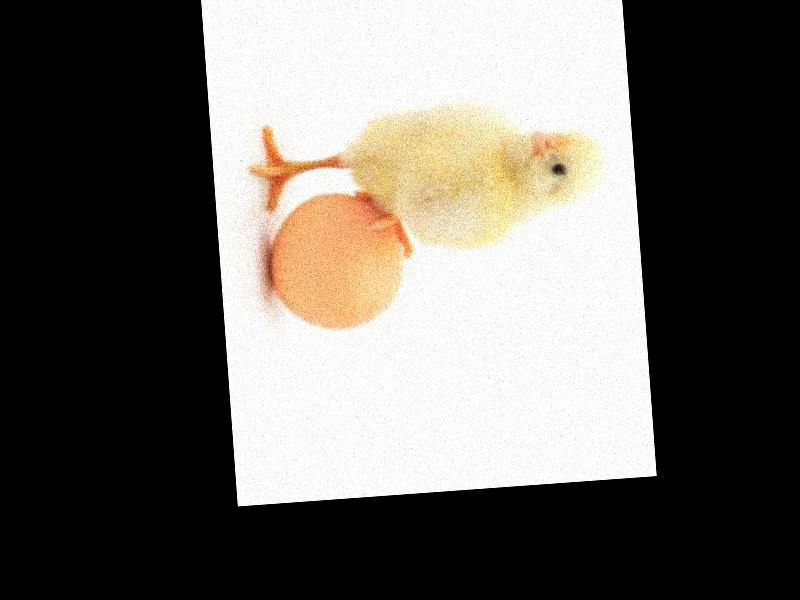Eggs: (266, 185, 413, 335)
